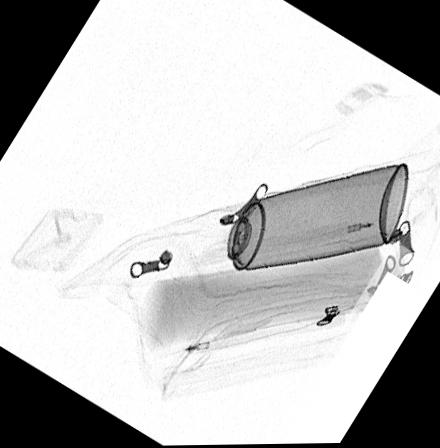Sprayer: (189, 162, 409, 275)
